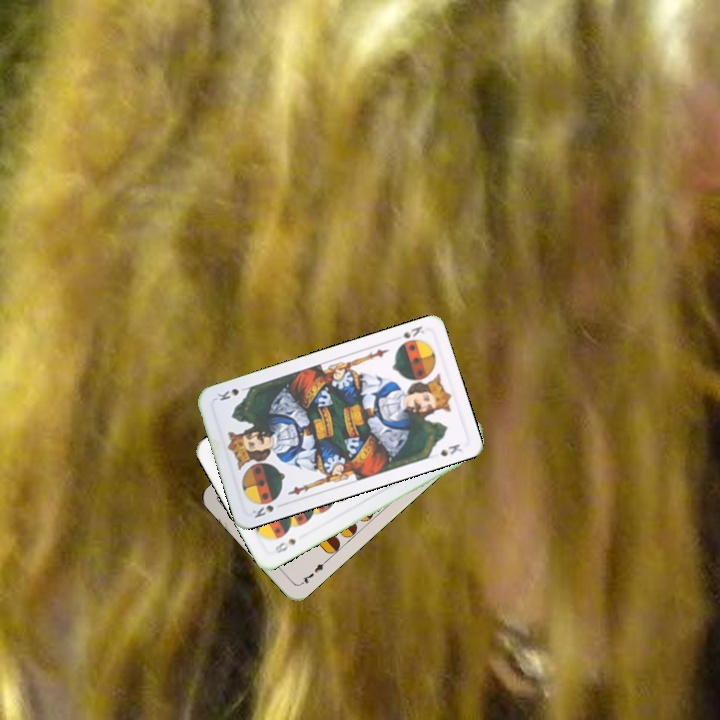E7: (296, 557, 329, 588)
S8: (271, 534, 298, 556)
SK: (389, 322, 427, 349), (248, 501, 277, 521)
